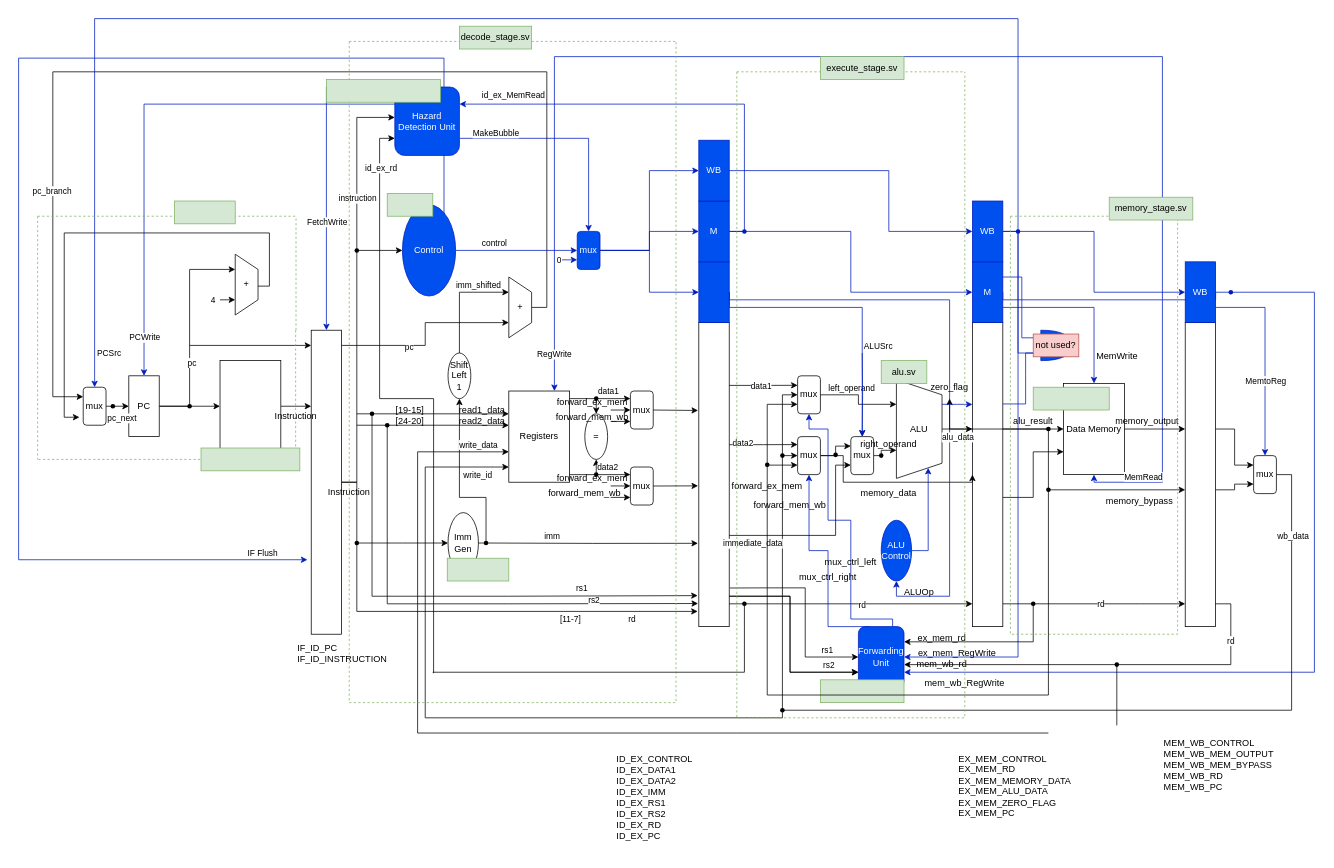
The diagram is 1334 pixels wide and 868 high, and some of its shapes have lost their labels. Each missing label, with the centre of its shape:
"control.sv" goes at point (409, 204).
"data_memory.sv" goes at point (1070, 398).
"EX" goes at point (713, 292).
"EX/MEM" goes at point (987, 474).
"fetch_stage.sv" goes at point (204, 212).
"forwarding_unit.sv" goes at point (862, 691).
"hazard_detection_unit.sv" goes at point (383, 90).
"ID/EX" goes at point (713, 474).
"IF/ID" goes at point (326, 481).
"imm_gen.sv" goes at point (477, 569).
"Instruction Memory" goes at point (250, 406).
"MEM/WB" goes at point (1200, 474).
"program_memory.sv" goes at point (250, 459).
